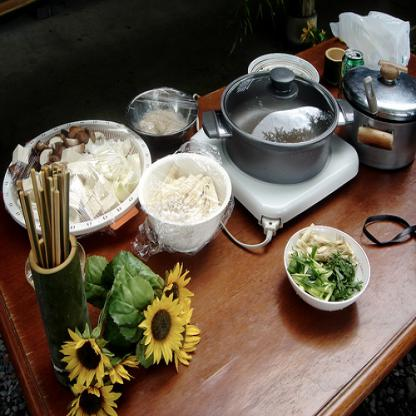SUN FLOWER: (35, 241, 213, 415)
